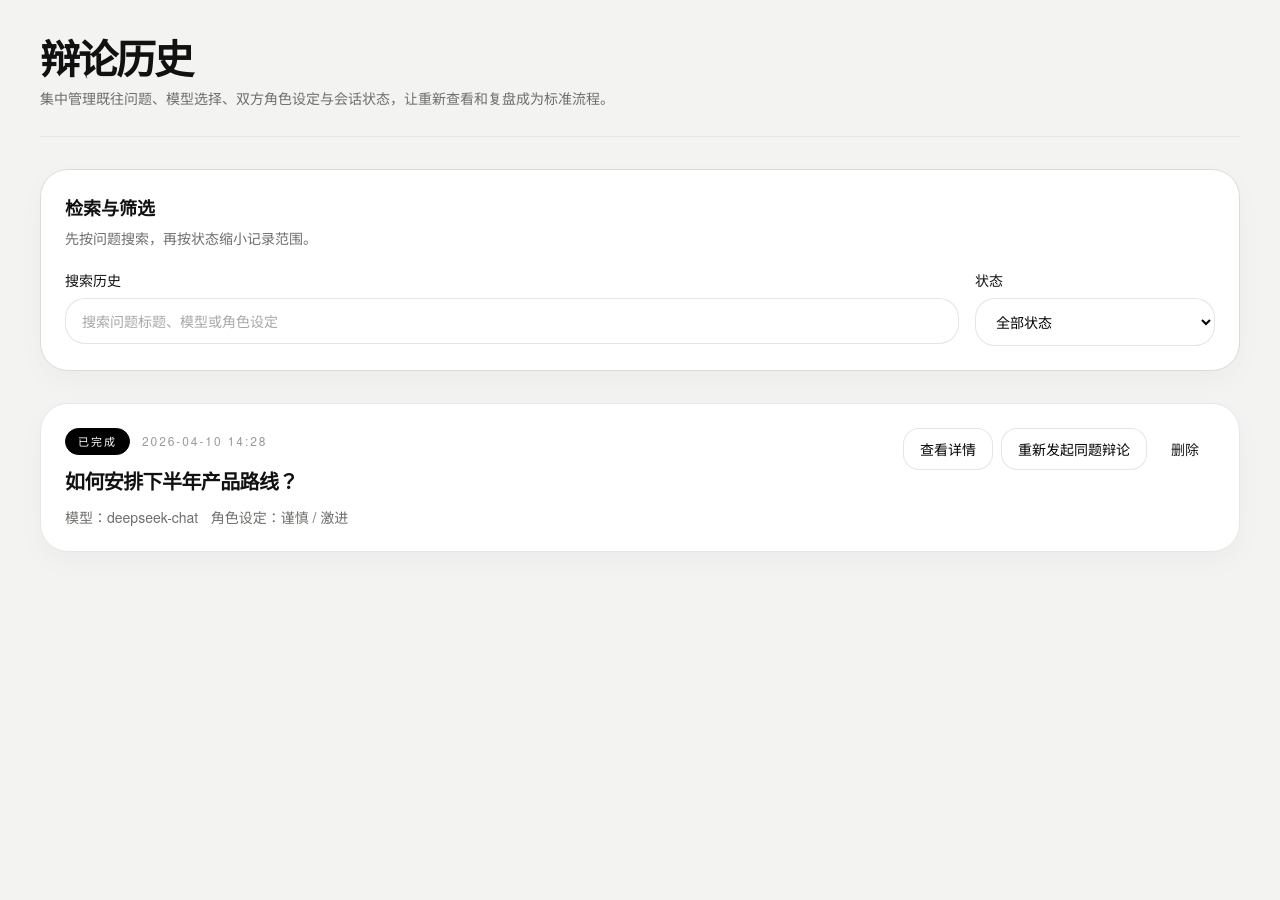
Test: HistoryPage › opens a delete confirmation dialog before removing a history record
The image size is (1280, 900).
Expected: the text "如何安排下半年产品路线？" is shown, x1=65 y1=466 x2=298 y2=494
Click the button "删除": (1185, 449) x1=1155 y1=428 x2=1215 y2=470
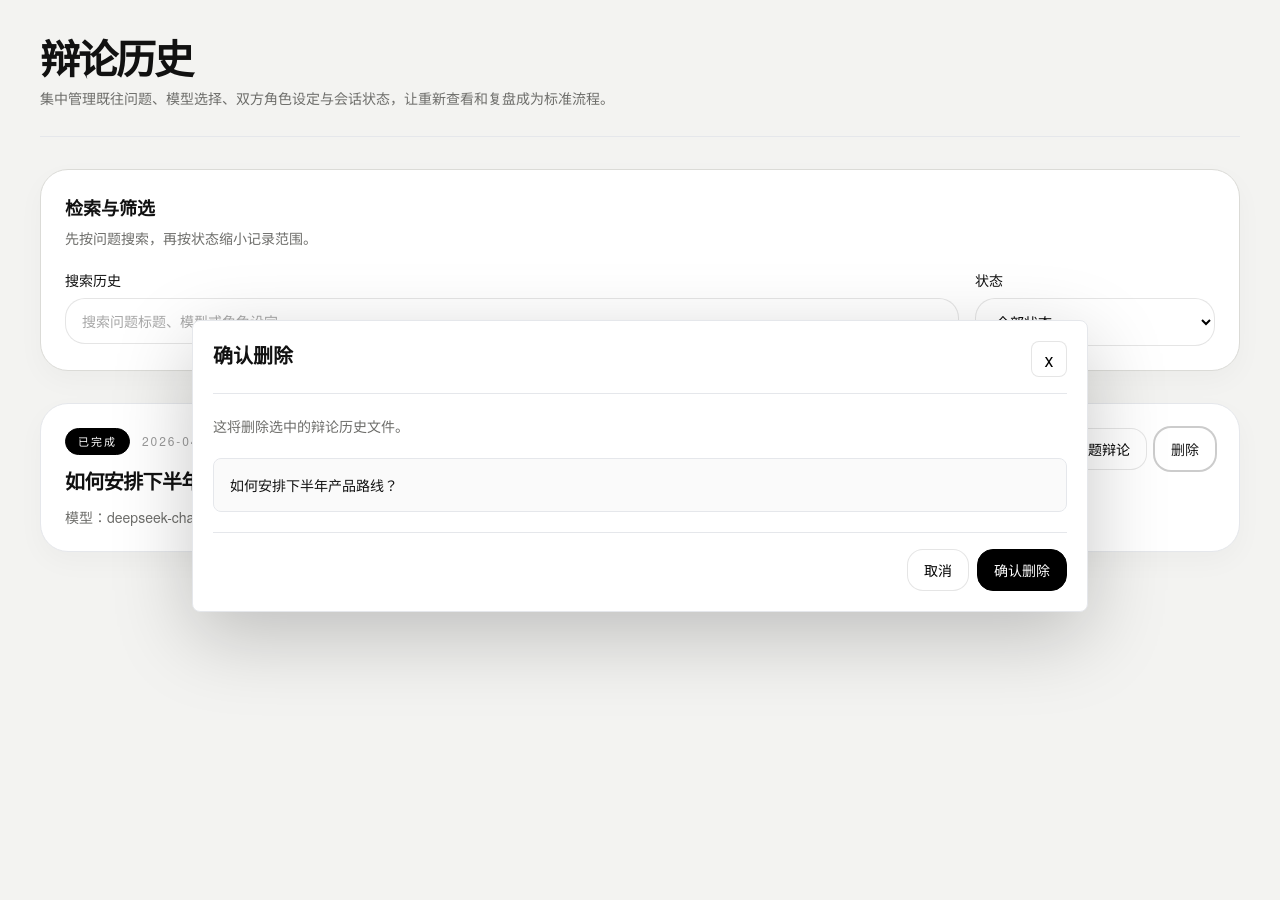
Expected: the heading "如何安排下半年产品路线？" is shown, x1=65 y1=466 x2=298 y2=494
Expected: the text "如何安排下半年产品路线？" is shown, x1=213 y1=458 x2=1067 y2=512
Click the button "确认删除": (1022, 570) x1=977 y1=549 x2=1067 y2=591
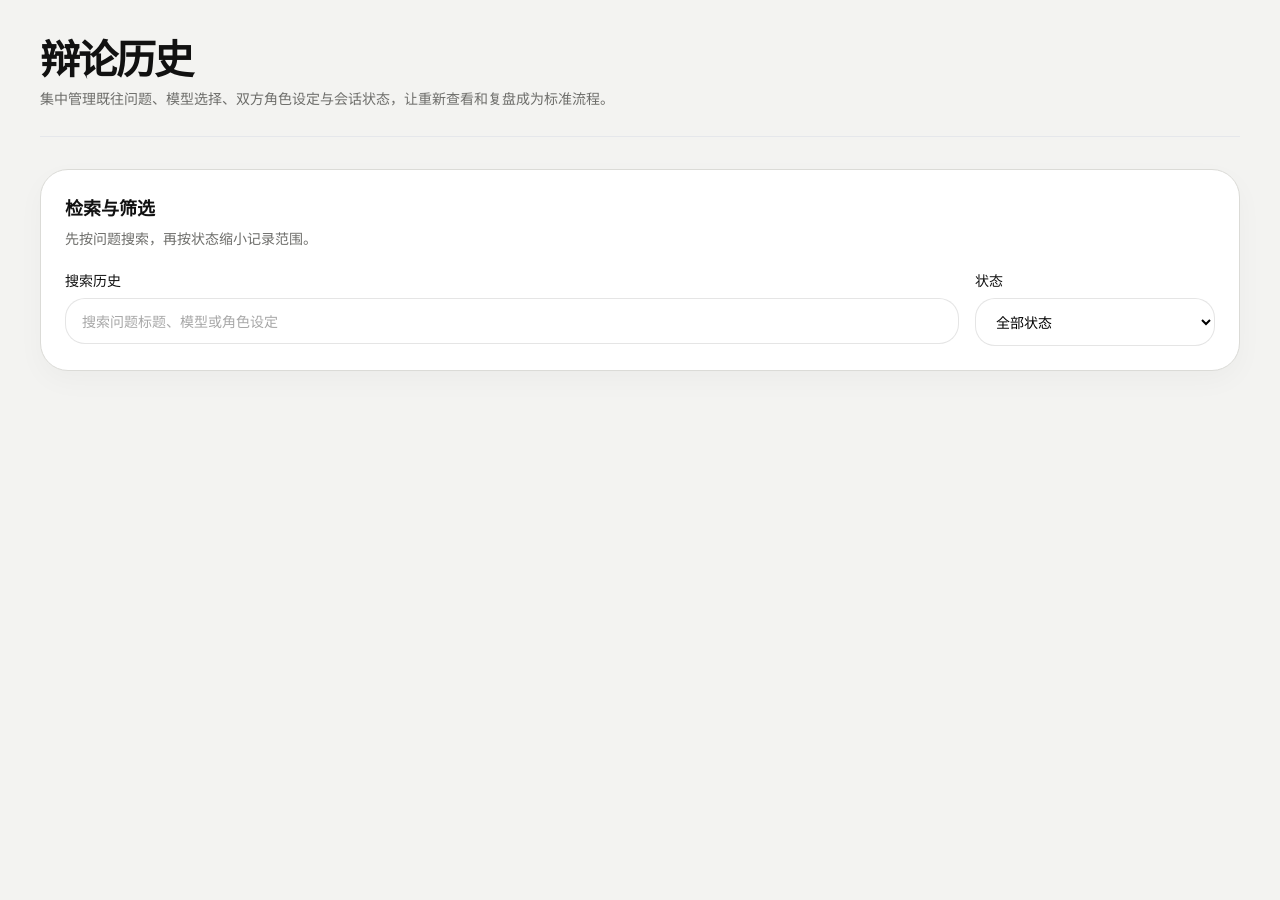
Expected: the heading "如何安排下半年产品路线？" is gone
